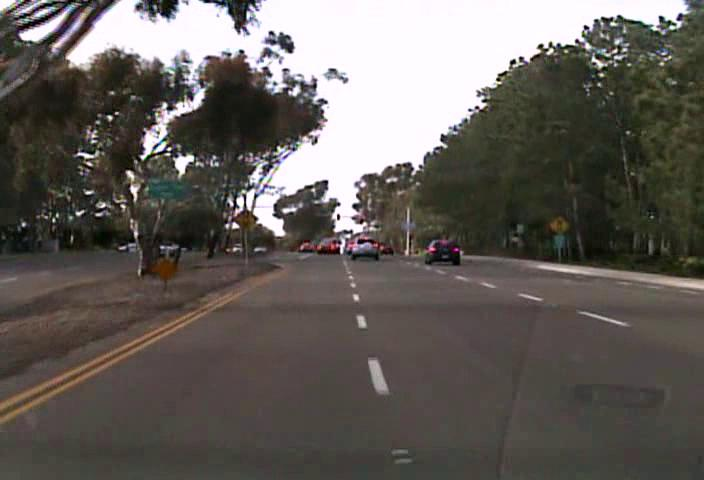signalAhead: (548, 214, 570, 236)
